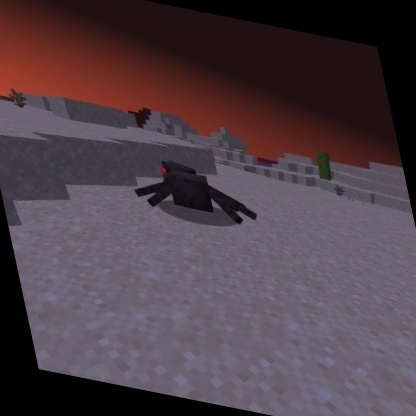spider: (122, 148, 264, 234)
